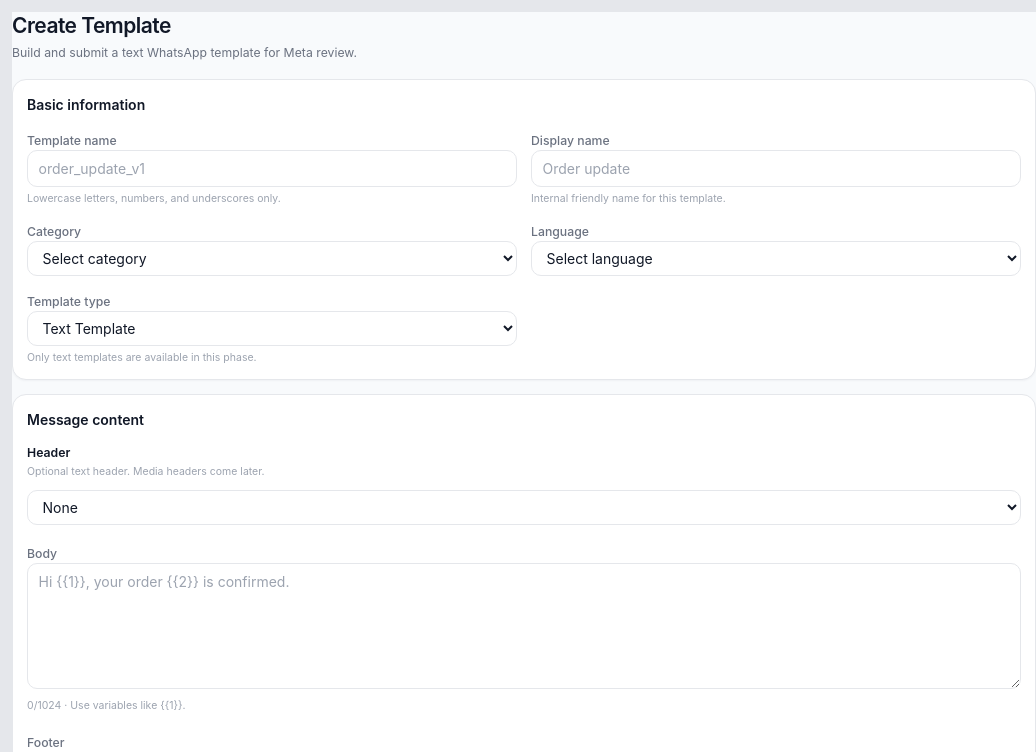
shows an error for an invalid template name
Type "Order Confirmation" into the field labelled "Template name" at (272, 168), box [27,150,517,186]
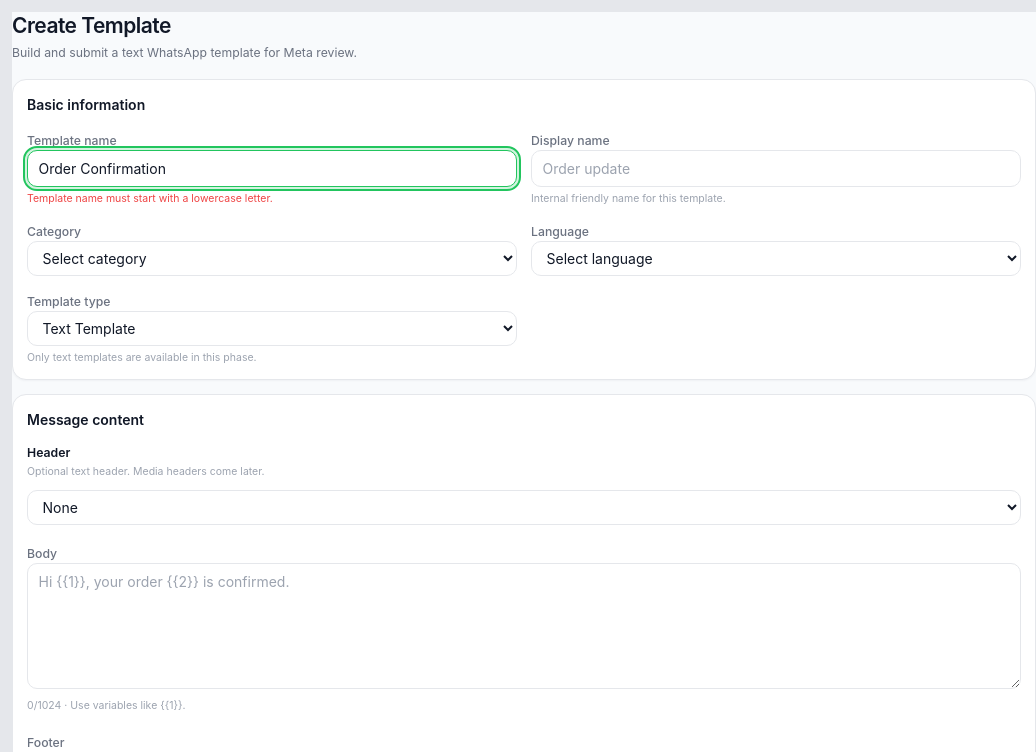
Result: the text "Template name must start with a lowercase letter." is shown at [27,192,273,205]
